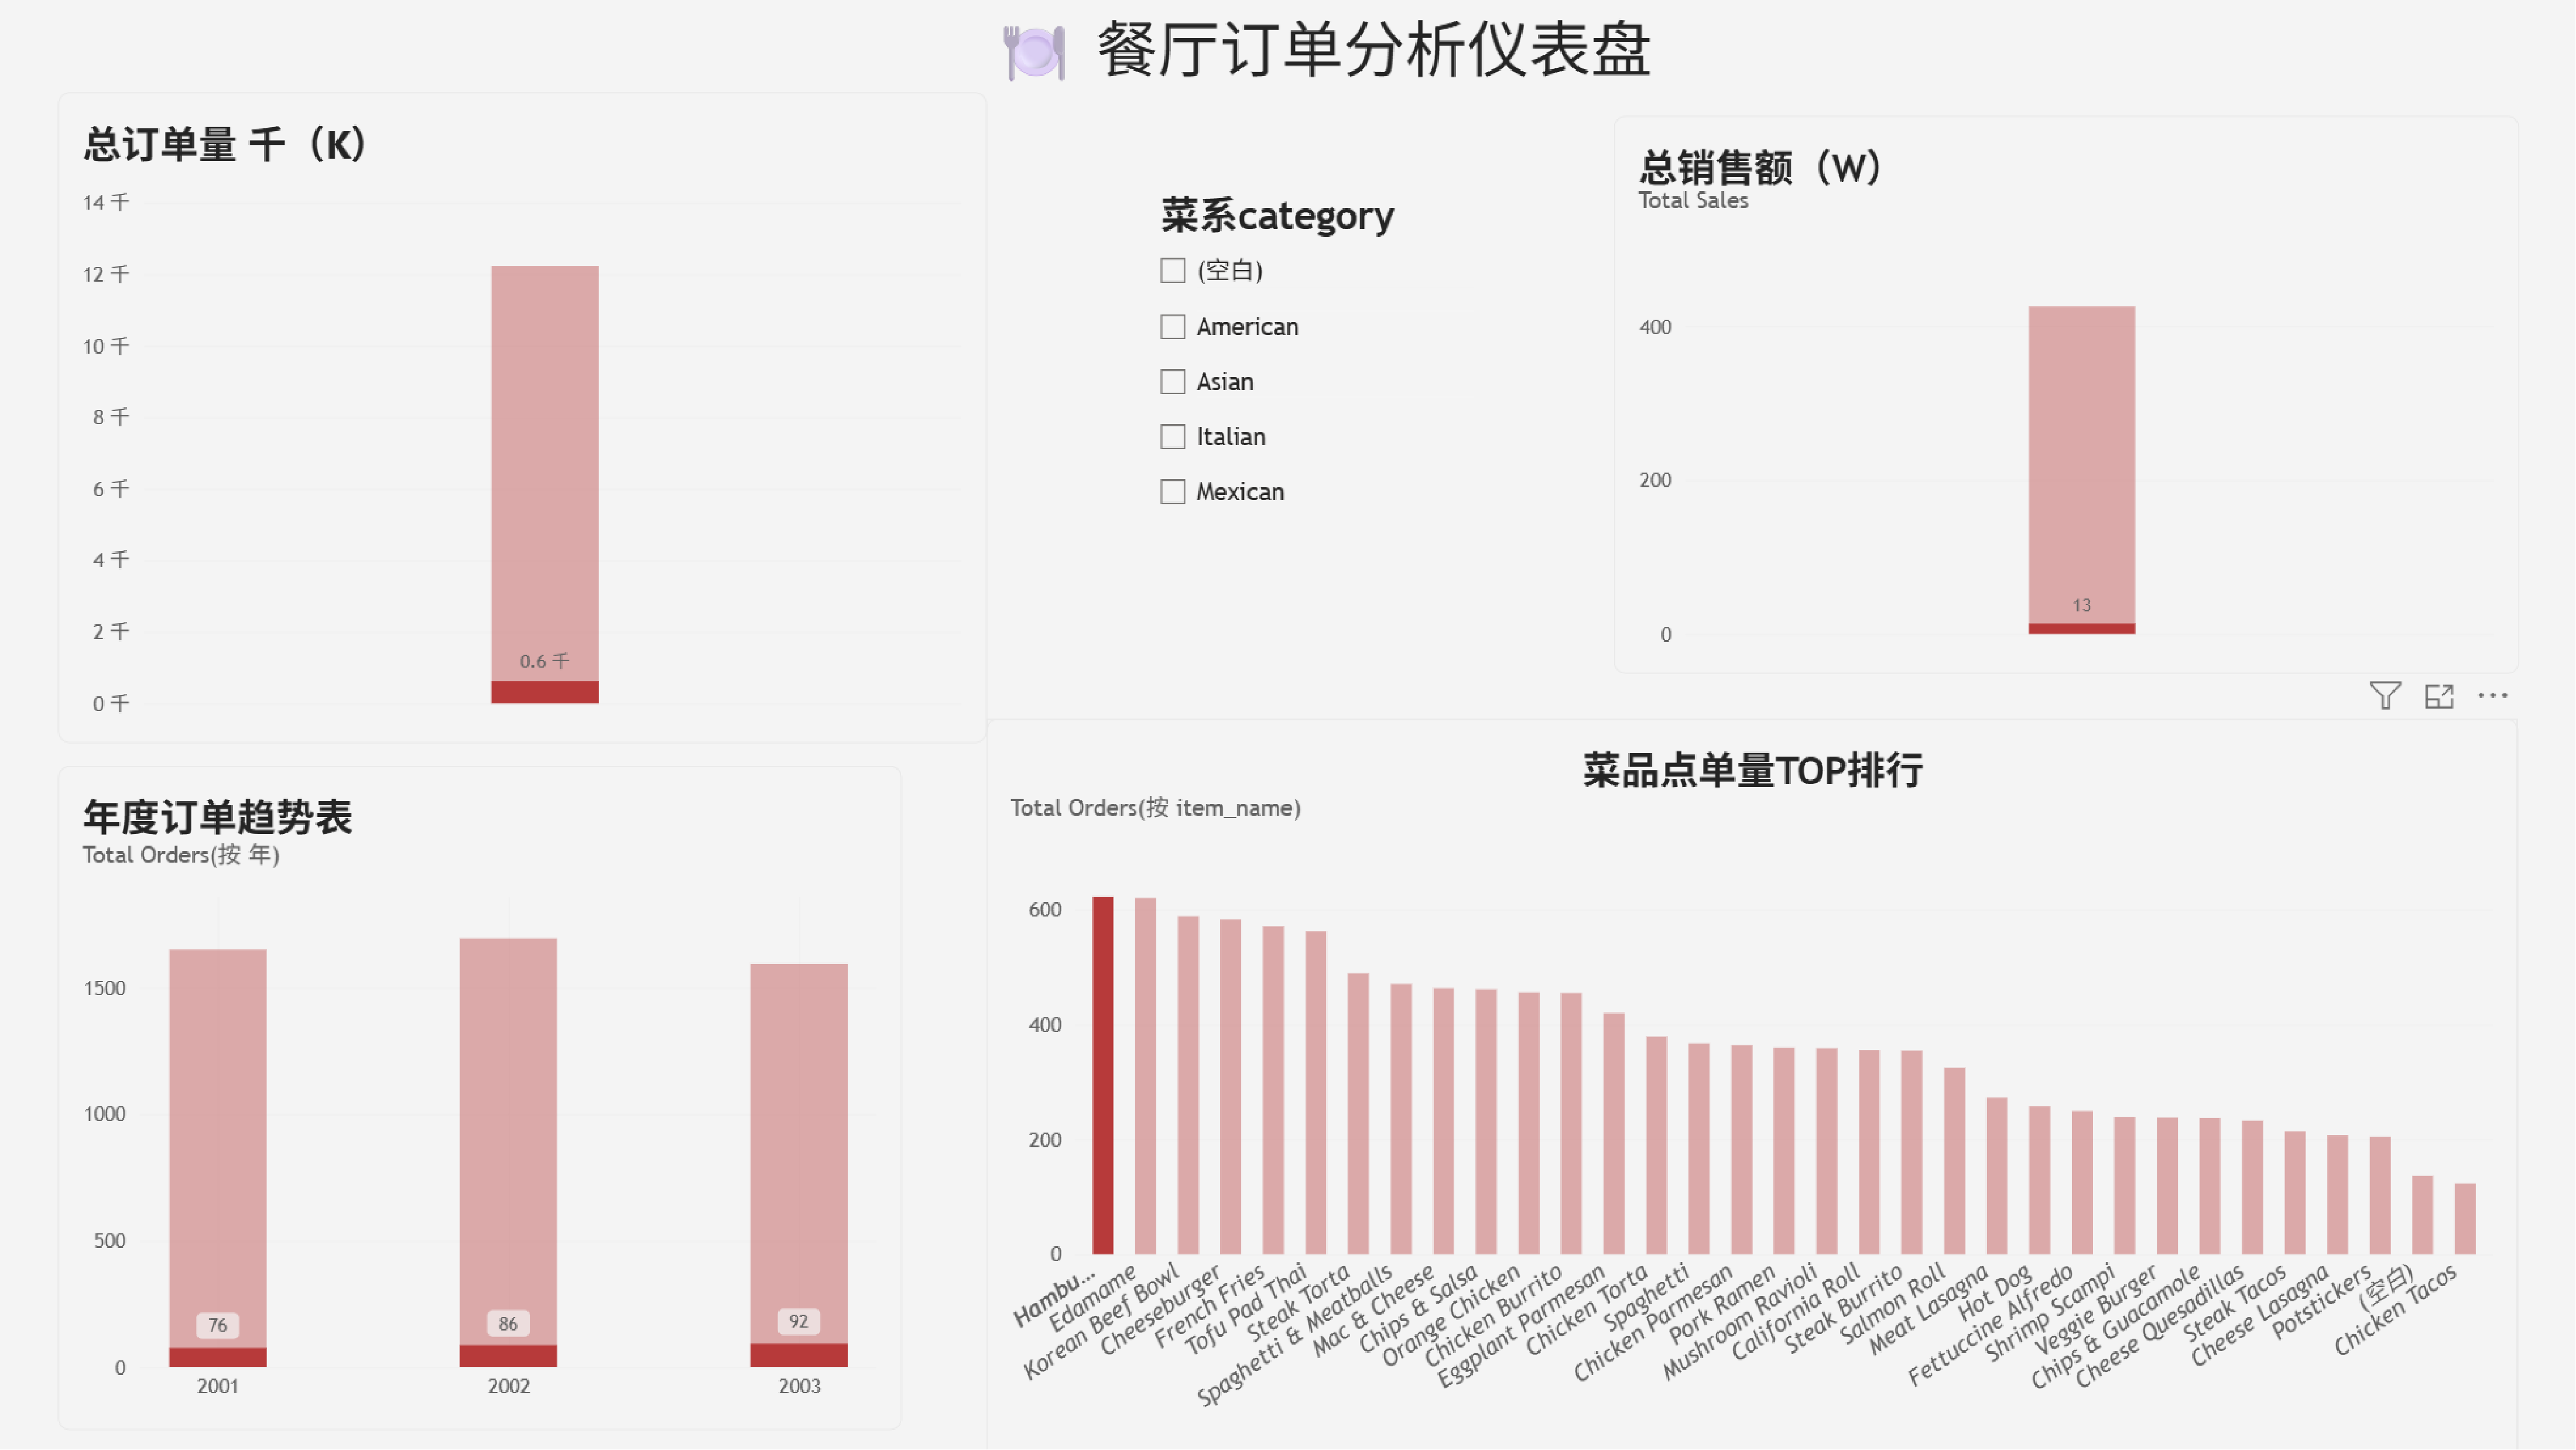

The dashboard page shown, as its layout file describes it:
{"tool":"powerbi","page":{"name":"第 1 页","canvas":[1920,1080],"ordinal":0},"visuals":[{"type":"lineStackedColumnComboChart","title":"年度订单趋势表","fields":{"Category":["order_details.order_date.Variation.日期层次结构.年","order_details.order_date.Variation.日期层次结构.季度","order_details.order_date.Variation.日期层次结构.月份","order_details.order_date.Variation.日期层次结构.日"],"Y":["menu_items.Total Orders"]},"box":[96,560,581.4,457.1],"z":0},{"type":"lineStackedColumnComboChart","title":"菜品点单量TOP排行","fields":{"Category":["menu_items.item_name"],"Y":["menu_items.Total Orders"]},"box":[736,528,1056,512],"z":1000},{"type":"clusteredColumnChart","title":"总订单量  千（K）","fields":{"Y":["menu_items.Total Orders"]},"box":[96,96,640,448],"z":2000},{"type":"clusteredColumnChart","title":"总销售额（W）","fields":{"Y":["menu_items.Total Sales"]},"box":[1168.4,112.2,624,384],"z":3000},{"type":"textbox","box":[336,32,1264,80],"z":4000},{"type":"slicer","fields":{"Values":["menu_items.category"]},"box":[848,160,224,320],"z":5000}]}

Visuals, with their boxes in screenshot pixels (x1, y1, x2, y2), scaled from the page's 1920x1080 canvas onto the 2576x1450 screenshot:
"年度订单趋势表" lineStackedColumnComboChart: box(129, 752, 909, 1366)
"菜品点单量TOP排行" lineStackedColumnComboChart: box(988, 709, 2404, 1396)
"总订单量  千（K）" clusteredColumnChart: box(129, 129, 988, 730)
"总销售额（W）" clusteredColumnChart: box(1568, 151, 2405, 666)
textbox: box(451, 43, 2147, 151)
slicer - menu_items.category: box(1138, 215, 1438, 644)
